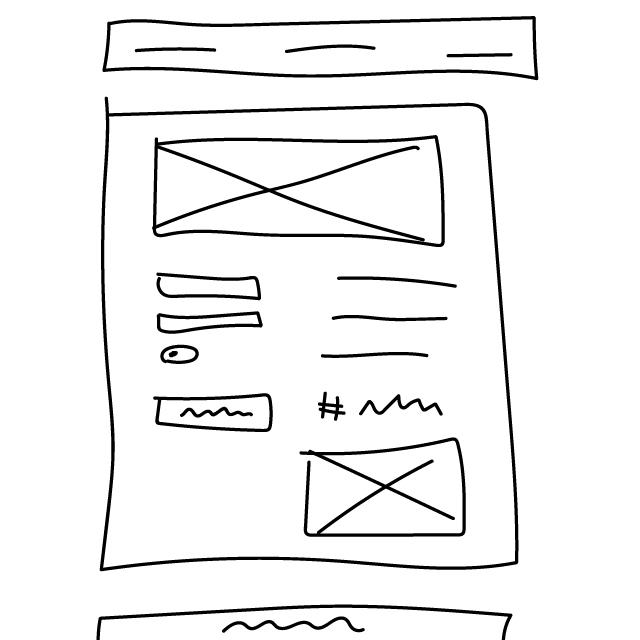button: (151, 389, 280, 437)
checkbox: (159, 345, 201, 366)
container: (94, 90, 529, 580)
footer: (91, 600, 526, 640)
frame: (151, 130, 457, 248), (299, 433, 470, 543)
heading: (316, 389, 446, 425)
input: (153, 271, 263, 304), (156, 310, 266, 337)
nav: (100, 16, 542, 84)
text: (317, 272, 465, 368)
